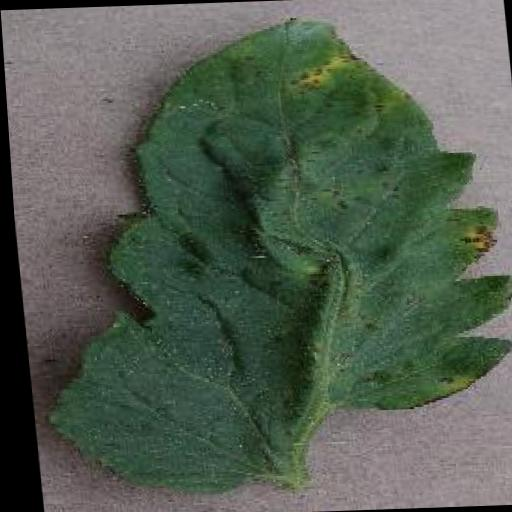Bacterial Spot: (1, 4, 512, 504)
